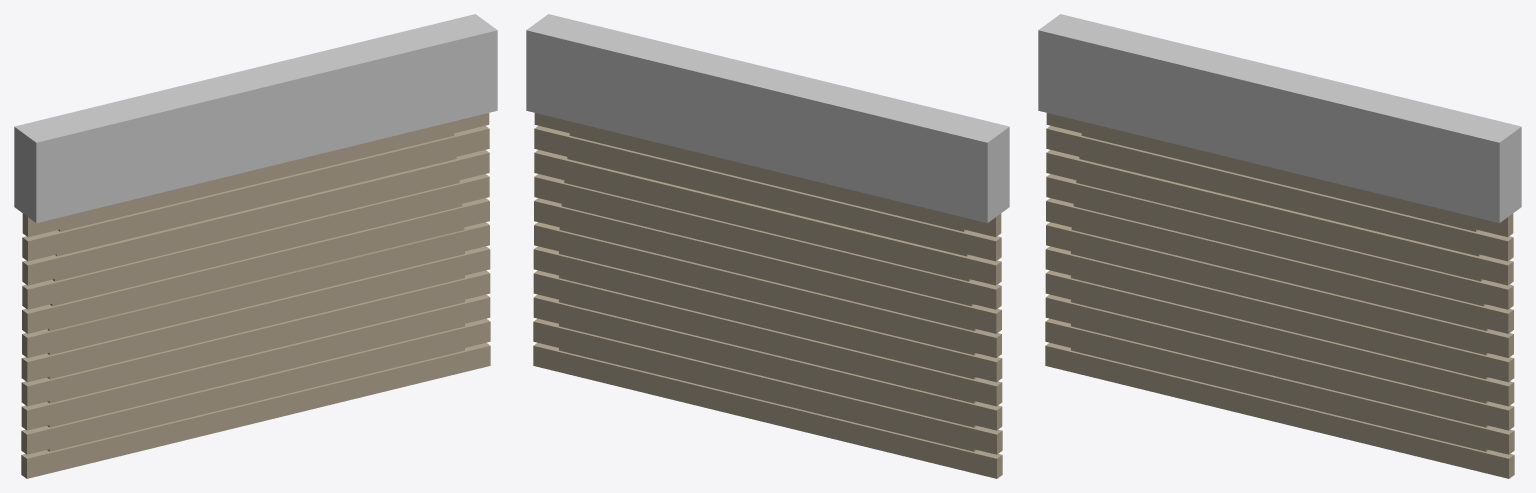
Rendered from persiana.fbx.
The picture shows the model from 3 angles, left to right: view 1: azimuth 30°, elevation 25°; view 2: azimuth 150°, elevation 25°; view 3: azimuth 330°, elevation 25°; orthographic projection.
Parts seen in each view (by area): view 1: Cube; view 2: Cube; view 3: Cube.
Part boxes in pixels (box(x1,y1,x2,y2)): Cube: box(14, 14, 497, 478); Cube: box(526, 14, 1009, 478); Cube: box(1038, 14, 1521, 478).
Bounding box in the file's own units: 302 × 213 × 25.
